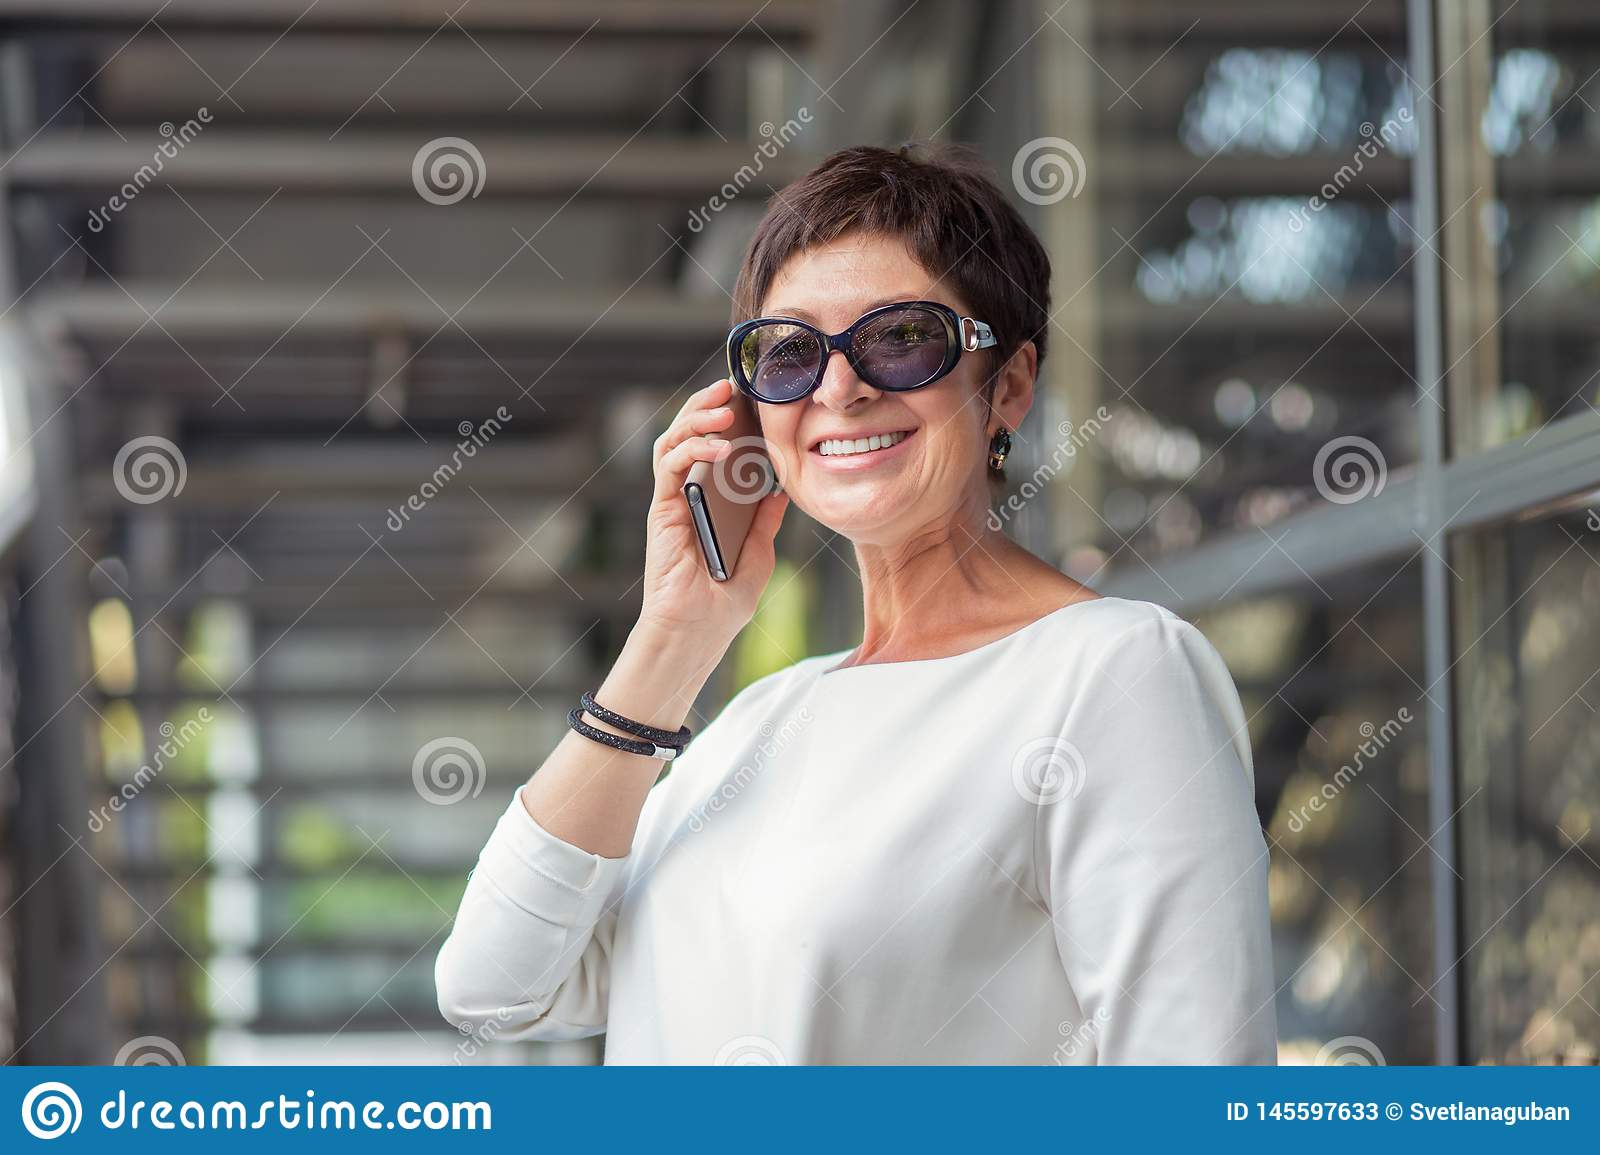phone: (686, 359, 779, 587)
talk: (632, 291, 970, 671)
